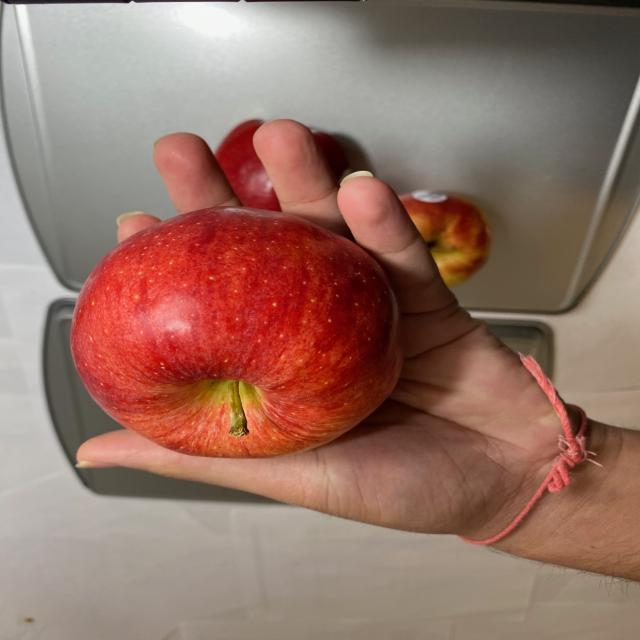apple: (67, 209, 406, 460)
